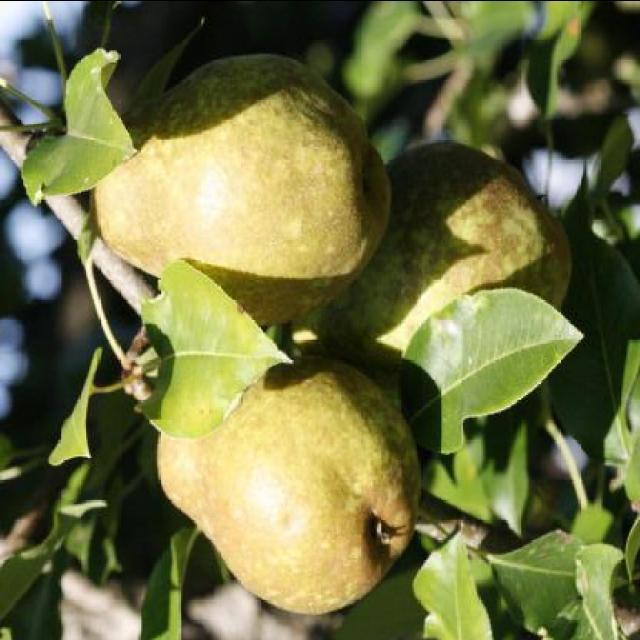Pear: (87, 52, 396, 334), (298, 134, 574, 394), (158, 352, 416, 612)
